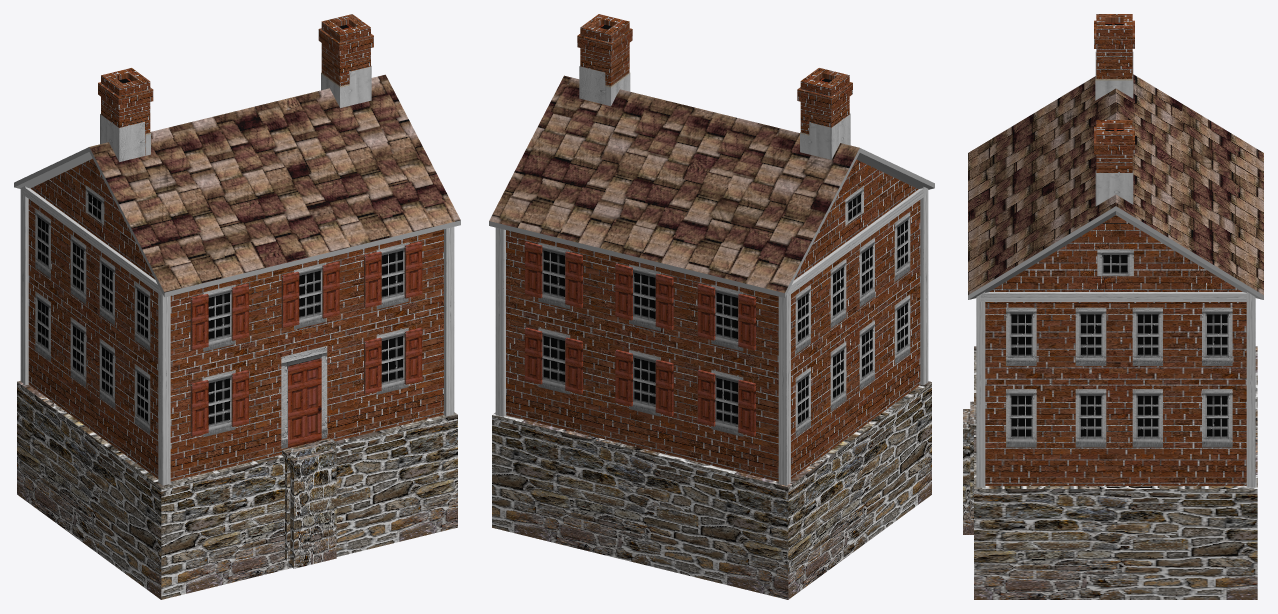
Rendered from brit_house_1.dae.
The picture shows the model from 3 angles, left to right: view 1: azimuth 30°, elevation 25°; view 2: azimuth 150°, elevation 25°; view 3: azimuth 270°, elevation 25°; orthographic projection.
Parts seen in each view (by area): view 1: BRITHouse1; view 2: BRITHouse1; view 3: BRITHouse1.
Boxes of the visible parts, x1=… form: BRITHouse1: x1=14, y1=14, x2=460, y2=599; BRITHouse1: x1=489, y1=14, x2=934, y2=599; BRITHouse1: x1=963, y1=14, x2=1263, y2=599.
Bounding box in the file's own units: 16.21 × 14.46 × 24.04.
